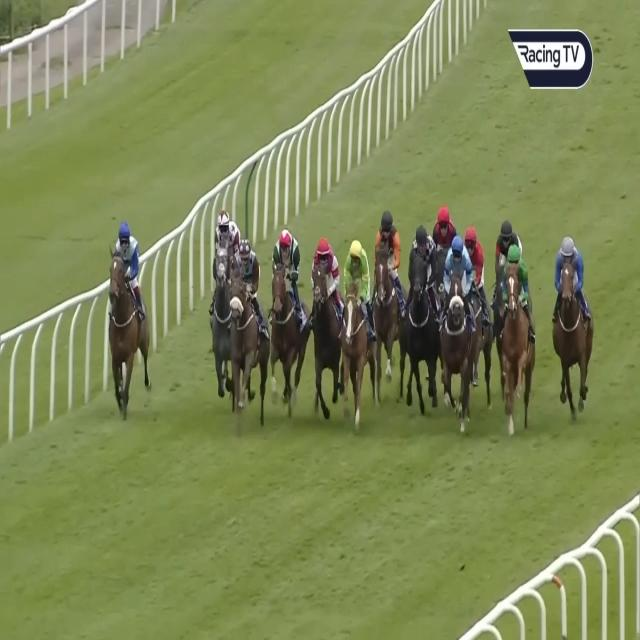horses-racing: (398, 228, 444, 392), (111, 222, 146, 398), (228, 230, 261, 408), (441, 236, 473, 419), (209, 207, 241, 385), (554, 234, 585, 413), (270, 226, 300, 410), (501, 240, 531, 421), (340, 242, 370, 409), (312, 232, 340, 407), (375, 205, 402, 368), (432, 205, 456, 274), (462, 229, 486, 292), (494, 216, 519, 276)
